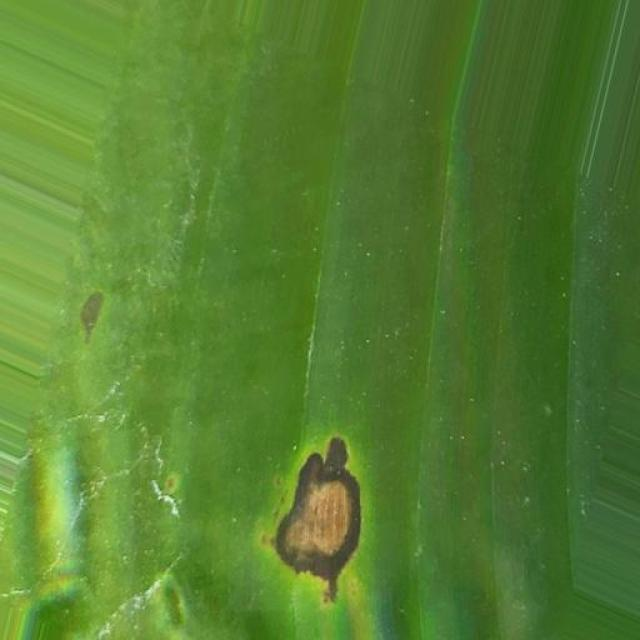Early_rust: (259, 411, 397, 627)
